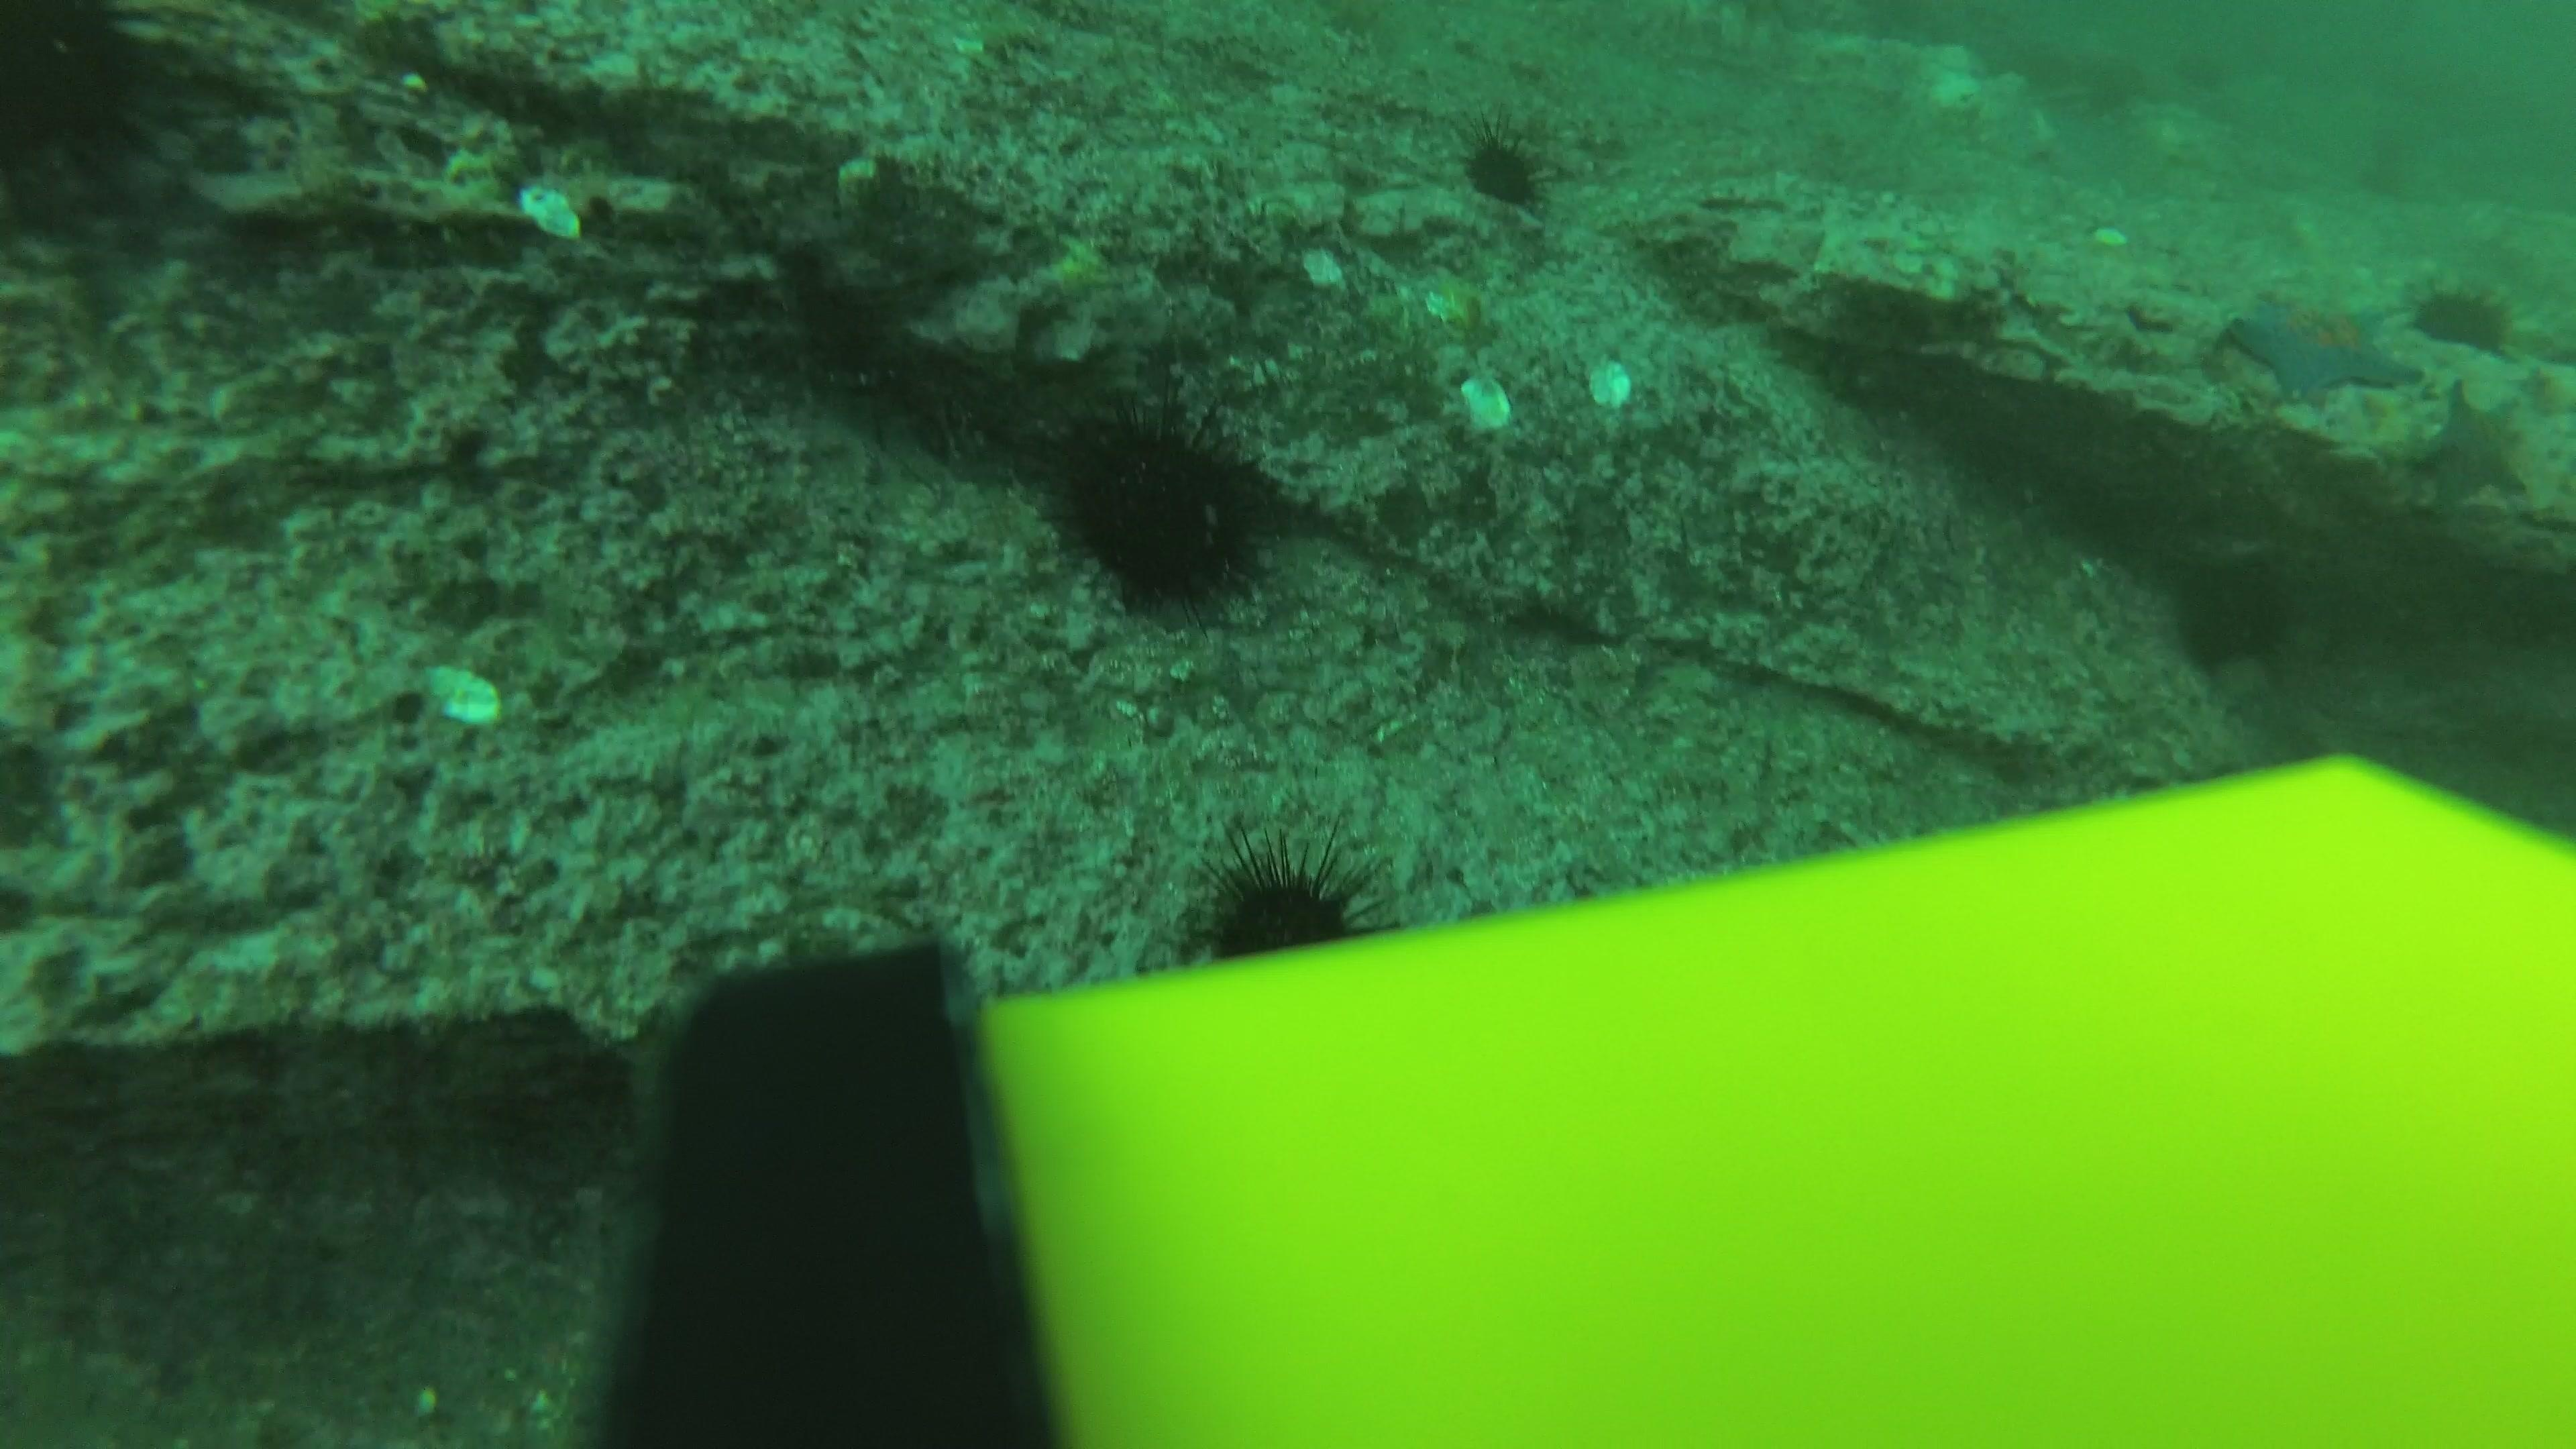echinus: (1040, 396, 1281, 621), (2, 0, 184, 209), (1185, 826, 1382, 962), (2164, 550, 2298, 676), (2404, 272, 2521, 361), (1453, 119, 1559, 216)
starfish: (2219, 285, 2420, 407)
